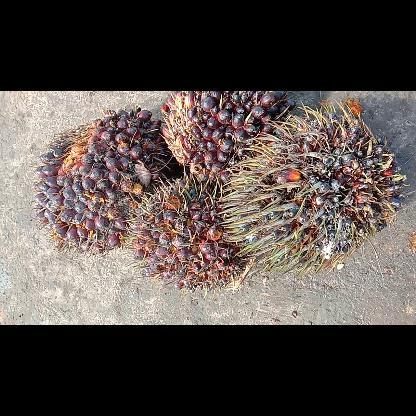Kurang masak: (132, 176, 248, 290), (160, 91, 293, 181)
TBS abnormal: (218, 105, 404, 268)
TBS masak: (32, 108, 168, 254)
